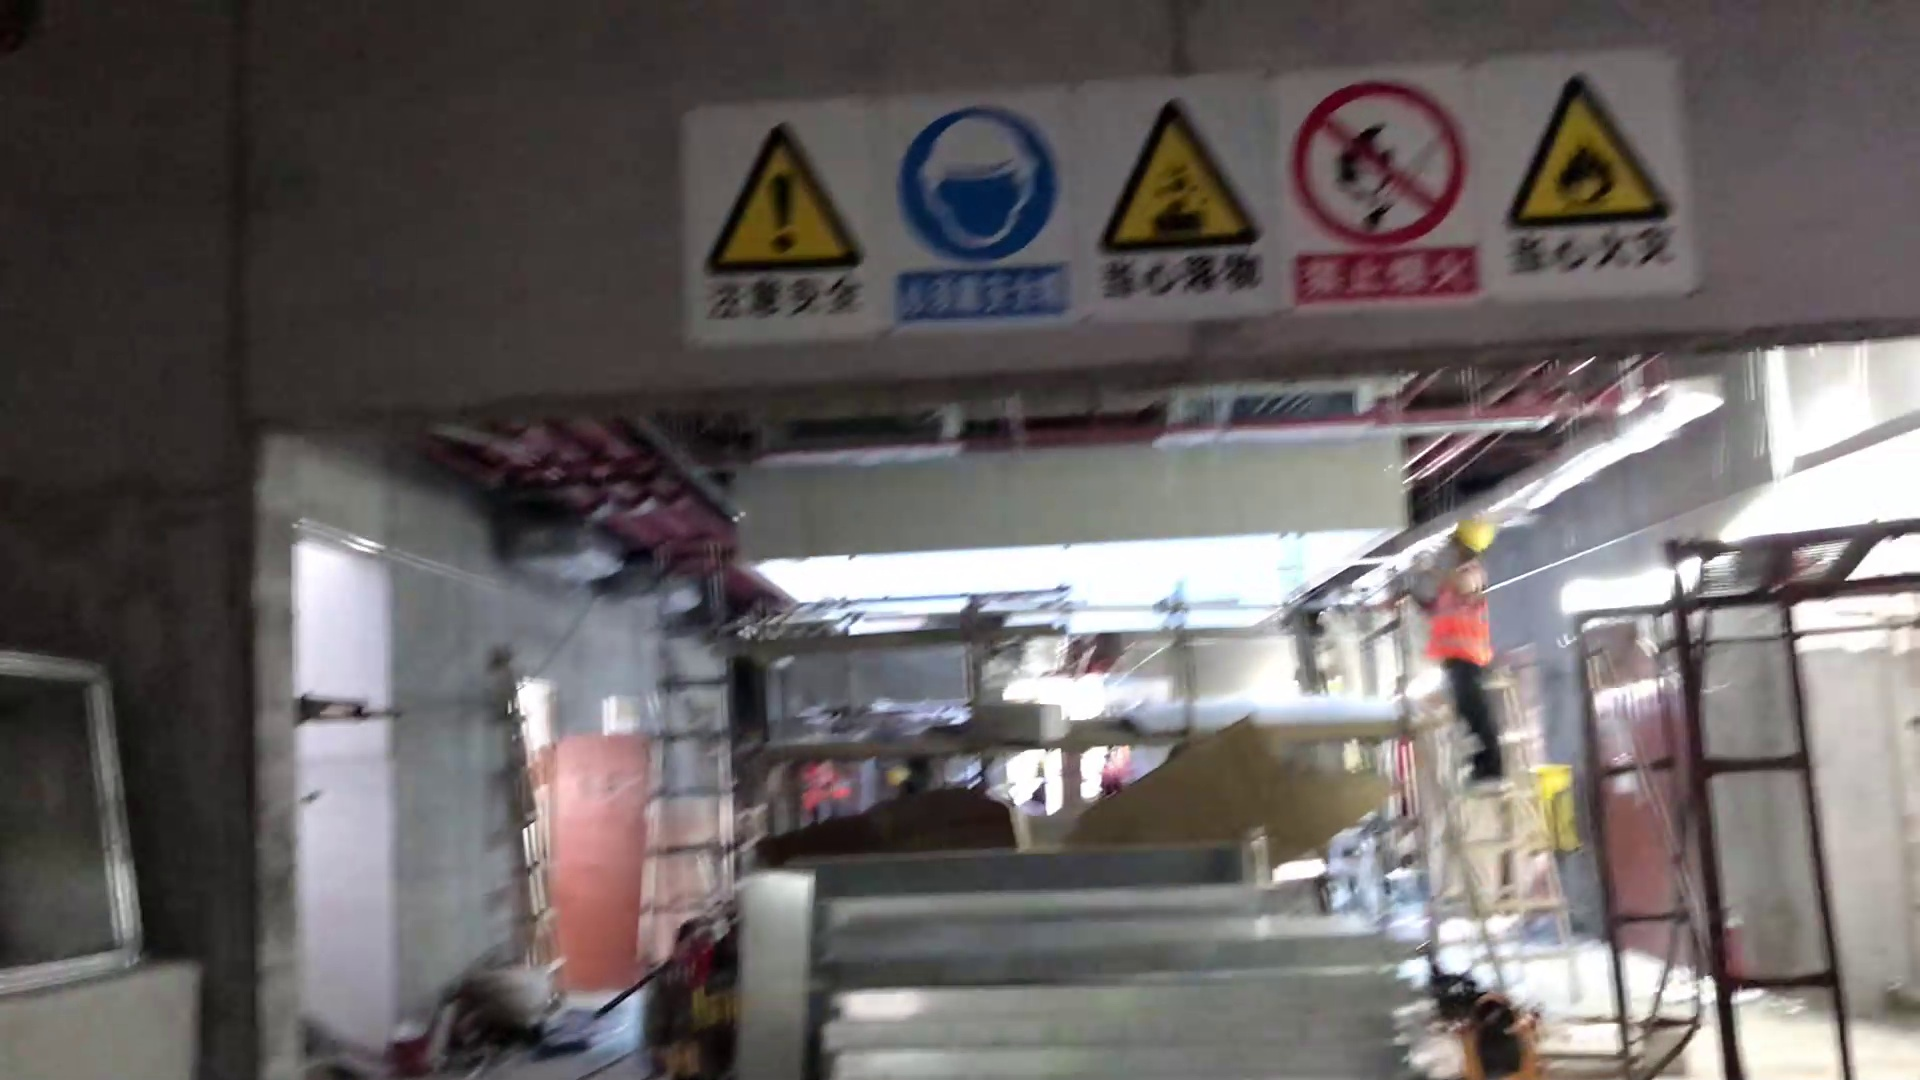ebox: (1515, 761, 1590, 876)
helmet: (1448, 510, 1498, 553)
person: (1408, 516, 1524, 790)
vest: (1434, 566, 1488, 664)
